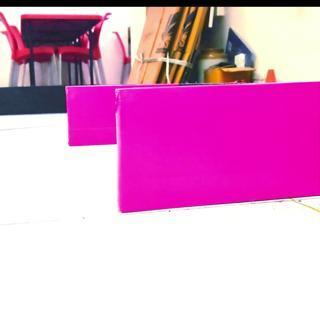xparking: (119, 93, 320, 213), (66, 86, 116, 148)
